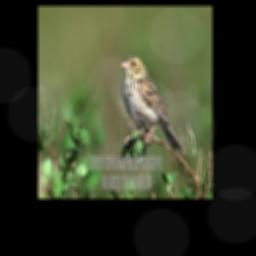Sparrow: (121, 54, 183, 159)
